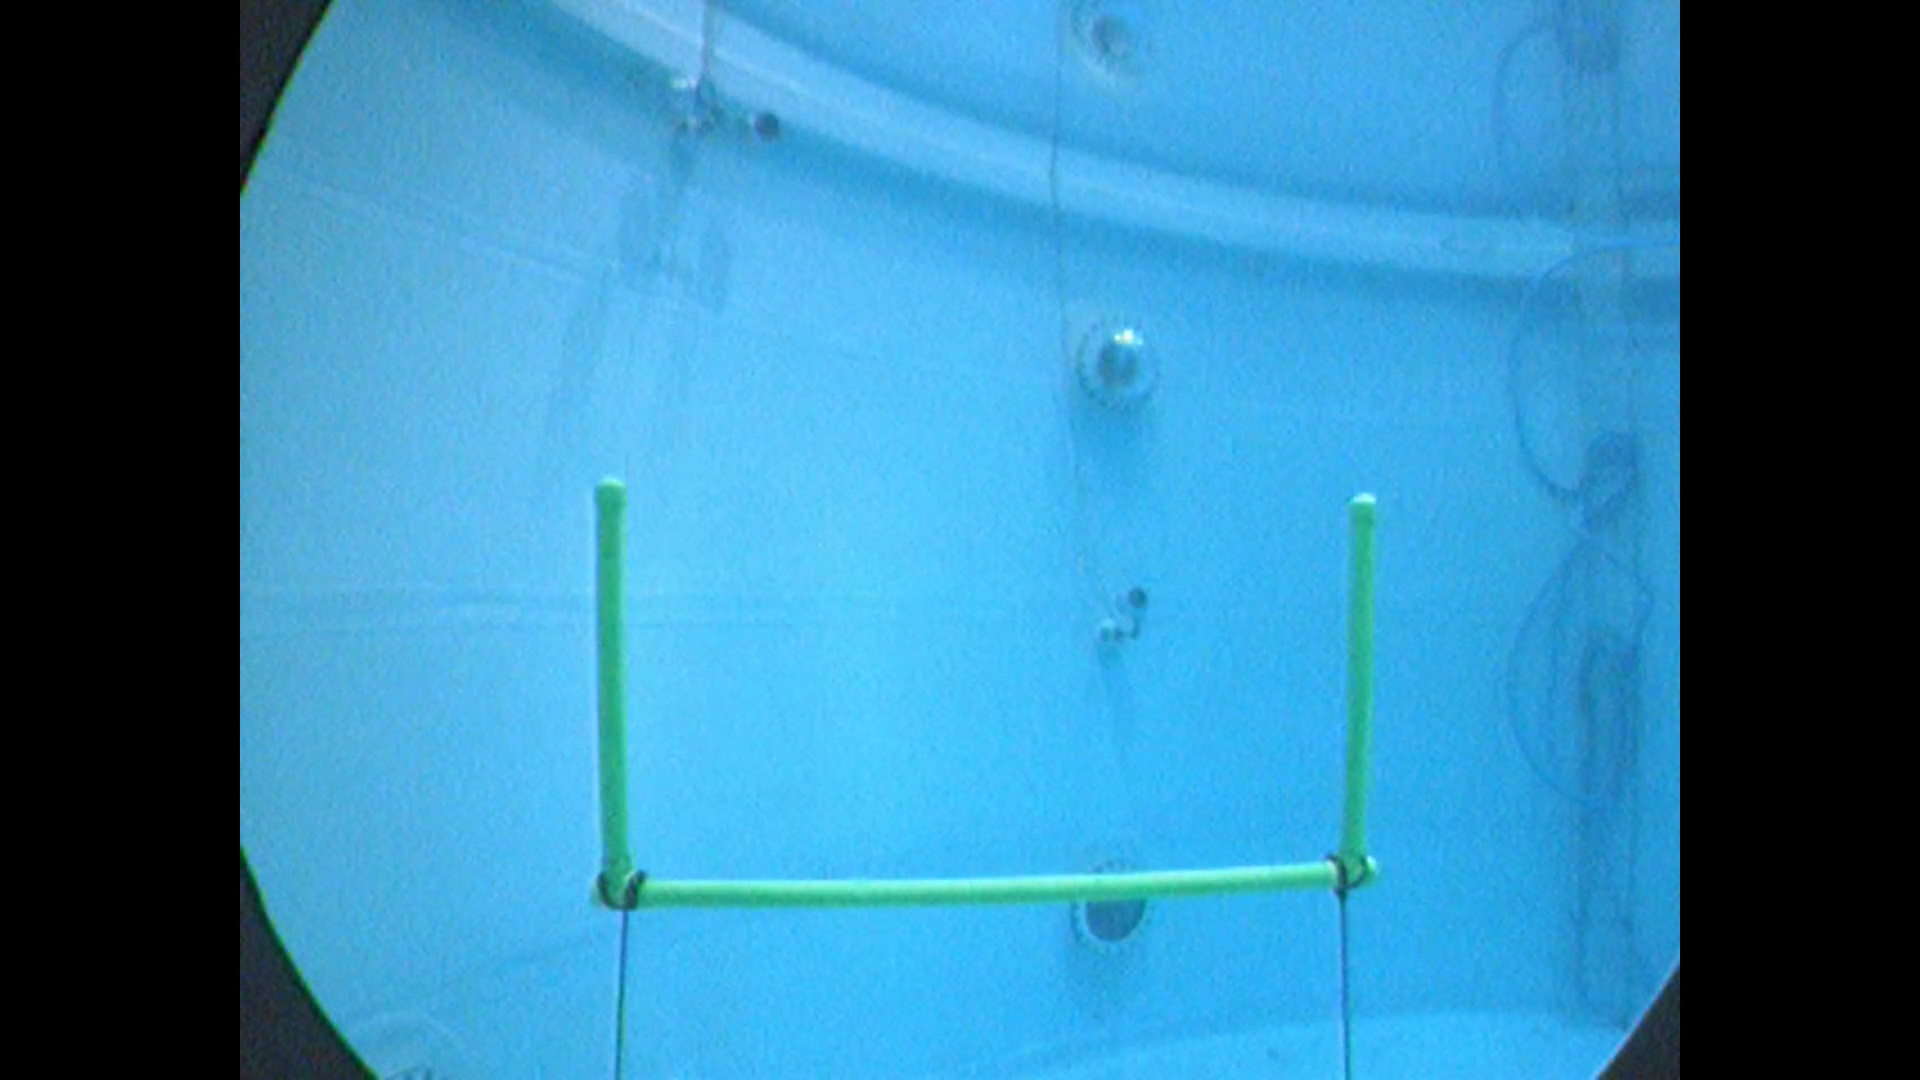gate: (578, 472, 1391, 930)
